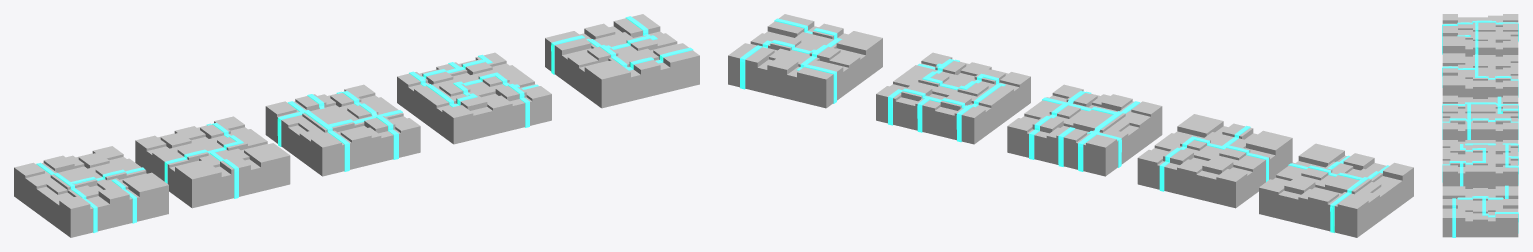
The model's file is platforme.FBX.
3 renders of one model, left to right at view 1: azimuth 30°, elevation 25°; view 2: azimuth 150°, elevation 25°; view 3: azimuth 270°, elevation 25°, orthographic. The views are drawn at different scales.
Parts seen in each view (by area): view 1: Box019, Box015, Box016, Box018, Box017, Object019, Object020, Object021, Object017, Object018; view 2: Box015, Box016, Box019, Box017, Box018, Object019, Object020, Object021, Object018, Object017; view 3: Box019, Box018, Box016, Box017, Box015, Object019, Object020, Object021, Object017, Object018.
Part boxes in pixels (bbox=[...]): Box019: bbox=[545, 14, 699, 108]; Box015: bbox=[14, 146, 168, 237]; Box016: bbox=[135, 116, 290, 208]; Box018: bbox=[397, 52, 551, 144]; Box017: bbox=[265, 84, 420, 176]; Object019: bbox=[277, 91, 402, 171]; Object020: bbox=[409, 54, 538, 127]; Object021: bbox=[551, 16, 693, 74]; Object017: bbox=[36, 162, 145, 232]; Object018: bbox=[164, 122, 243, 198]; Box015: bbox=[1259, 143, 1413, 237]; Box016: bbox=[1137, 114, 1292, 208]; Box019: bbox=[728, 14, 882, 108]; Box017: bbox=[1007, 84, 1162, 176]; Box018: bbox=[876, 52, 1030, 144]; Object019: bbox=[1029, 91, 1140, 171]; Object020: bbox=[888, 59, 1005, 142]; Object021: bbox=[740, 18, 841, 103]; Object018: bbox=[1159, 125, 1268, 191]; Object017: bbox=[1288, 155, 1389, 232]; Box019: bbox=[1442, 186, 1518, 237]; Box018: bbox=[1442, 140, 1518, 189]; Box016: bbox=[1442, 53, 1518, 98]; Box017: bbox=[1442, 95, 1518, 141]; Box015: bbox=[1442, 14, 1518, 56]; Object019: bbox=[1442, 96, 1518, 139]; Object020: bbox=[1442, 143, 1518, 186]; Object021: bbox=[1452, 185, 1518, 237]; Object017: bbox=[1442, 20, 1518, 54]; Object018: bbox=[1442, 54, 1518, 97].
Size of the model in its own units: 961 by 44.79 by 153.
